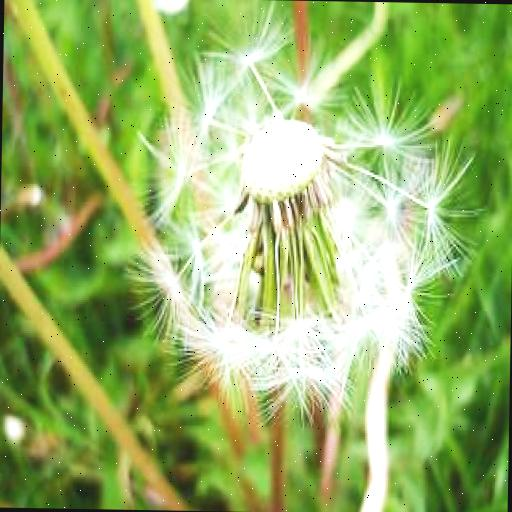dandelion: (146, 32, 461, 406)
